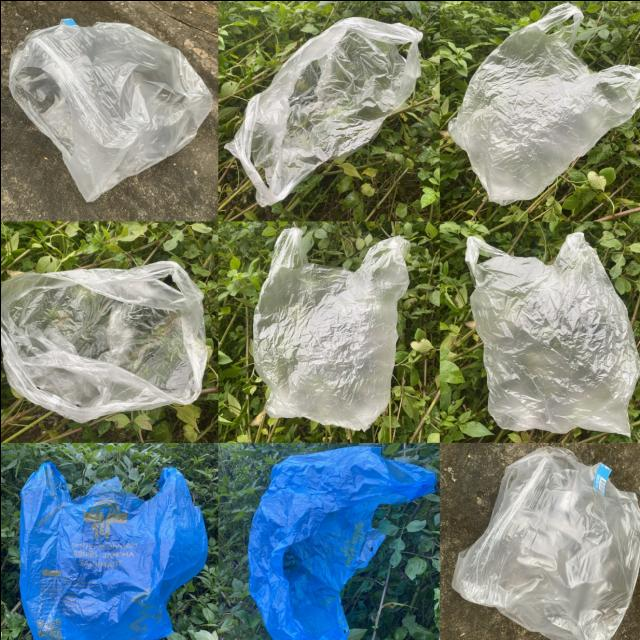plastik: (447, 3, 640, 204), (224, 16, 421, 205), (9, 18, 211, 199), (451, 447, 640, 640), (248, 445, 434, 640), (464, 231, 639, 434), (19, 461, 206, 640), (0, 260, 206, 421), (253, 227, 408, 430)
